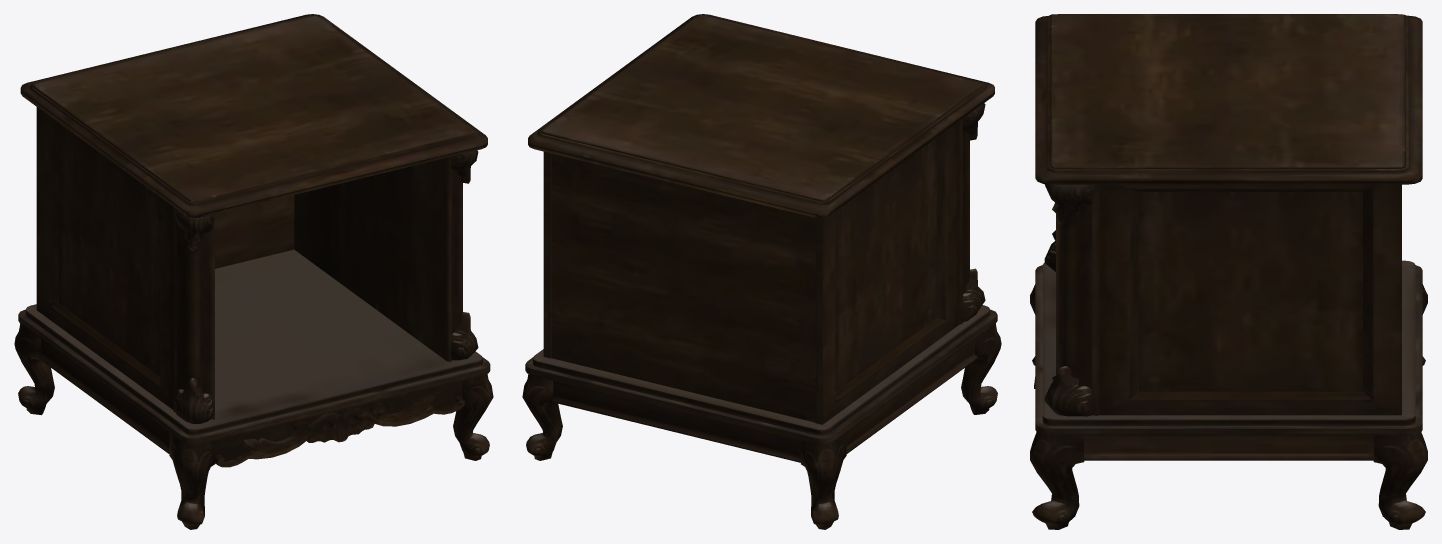
Rendered from ph-classicnightstand-01.glb.
The picture shows the model from 3 angles, left to right: view 1: azimuth 30°, elevation 25°; view 2: azimuth 150°, elevation 25°; view 3: azimuth 270°, elevation 25°; orthographic projection. The views are drawn at different scales.
Visible parts, largest first — view 1: ClassicNightstand_01; view 2: ClassicNightstand_01; view 3: ClassicNightstand_01.
Part boxes in pixels (<box>): ClassicNightstand_01: <box>14,14,493,529</box>; ClassicNightstand_01: <box>522,14,1001,529</box>; ClassicNightstand_01: <box>1030,14,1427,529</box>.
Size of the model in its own units: 1 by 1 by 1.
Materials: 1 (1 with a texture image).
